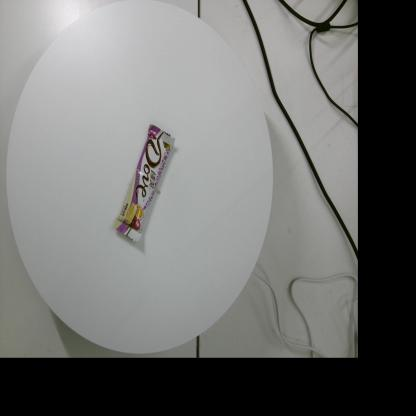Chocolate: (112, 124, 176, 243)
